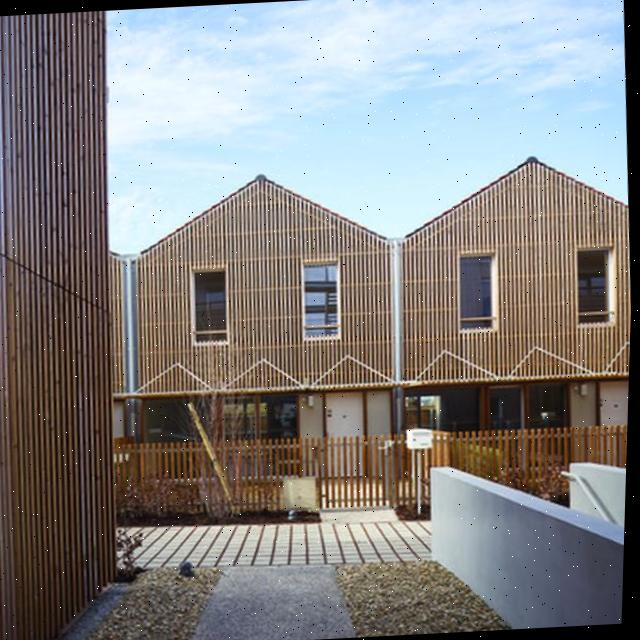building: (119, 158, 412, 508), (0, 11, 136, 640), (392, 144, 636, 488)
